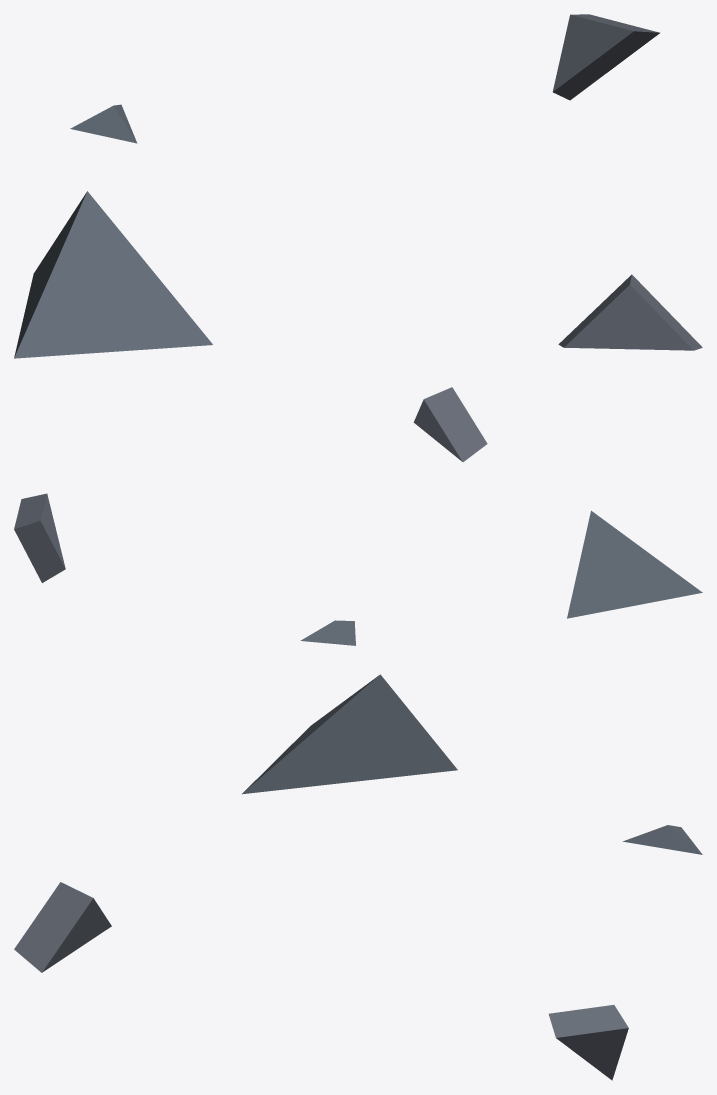
Rendered from Rocks_Sharp_s_04.fbx.
3 renders of one model, top to bottom at view 1: azimuth 30°, elevation 25°; view 2: azimuth 150°, elevation 25°; view 3: azimuth 270°, elevation 25°, orthographic. The views are drawn at different scales.
Visible parts, largest first — view 1: Rocks_Sharp_s_04; view 2: Rocks_Sharp_s_04; view 3: Rocks_Sharp_s_04.
Boxes of the visible parts, x1,y1,x2,y2 form: Rocks_Sharp_s_04: [14, 14, 702, 358]; Rocks_Sharp_s_04: [14, 387, 702, 645]; Rocks_Sharp_s_04: [14, 674, 702, 1080].
Size of the model in its own units: 116 by 21.73 by 98.48.
